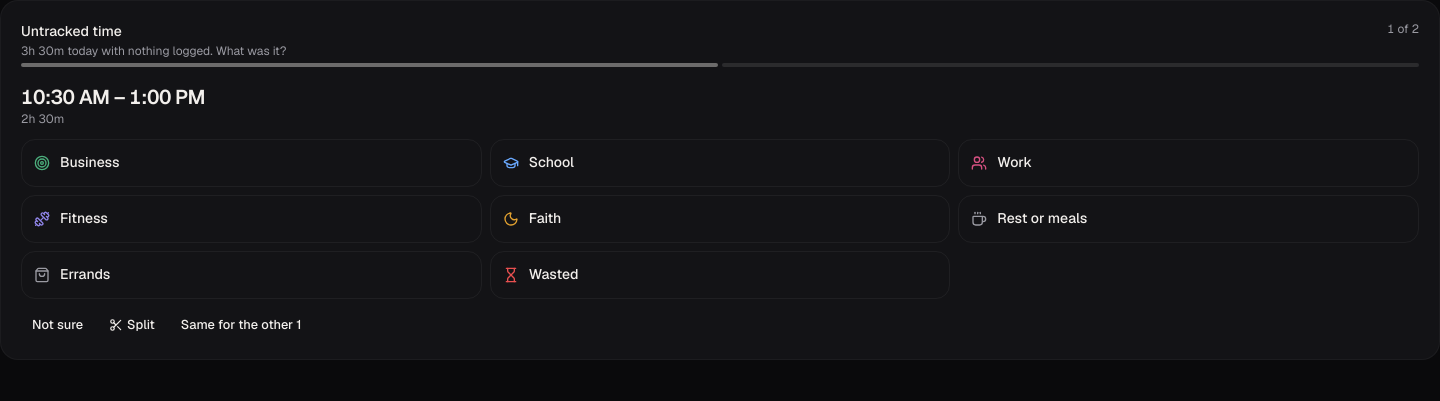
Test: CloseGapsStage › Back returns to the previous stretch, and a failed save keeps the answers with the error shown
Click the button "Business". click: (90, 162)
box: [21, 139, 482, 187]
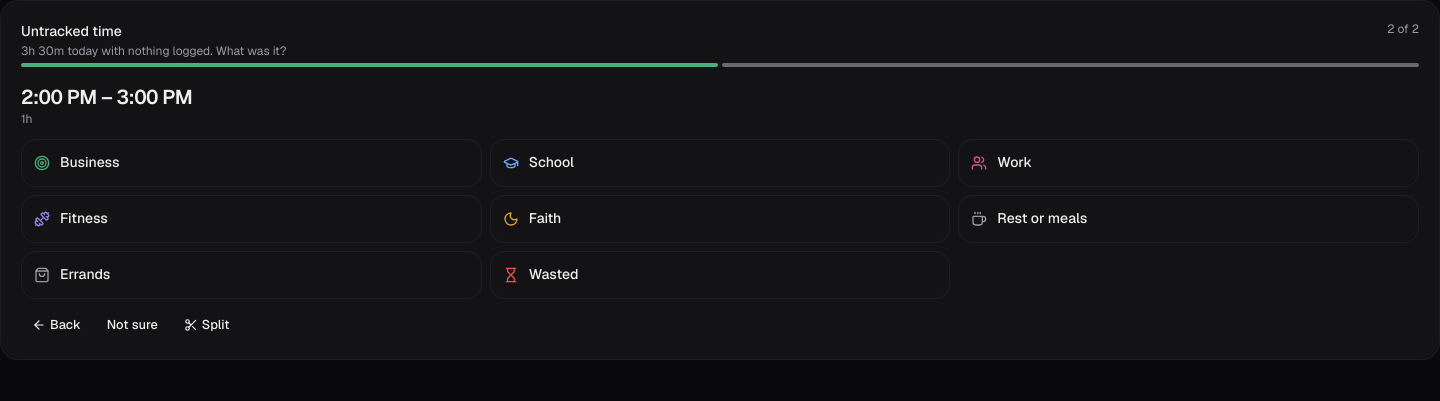
Click the button with test id "close-gaps-back". click: (56, 325)
box: [21, 311, 92, 339]
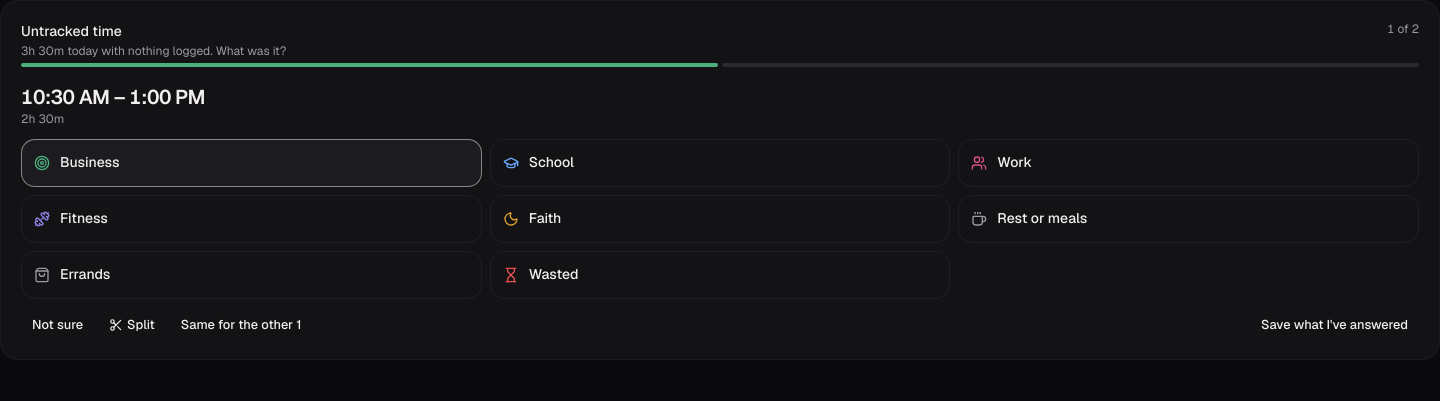
expect the text with test id "close-gaps-range" shows "10:30 AM": met, box [21, 84, 110, 110]
Click the button "Business". click: (90, 162)
box: [21, 139, 482, 187]
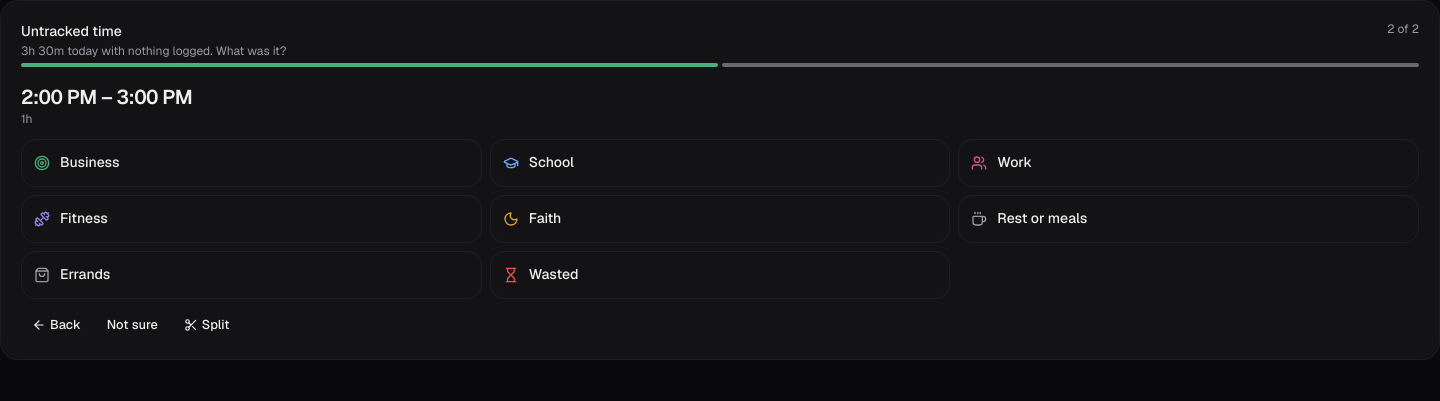
Click the button "Fitness". click: (84, 218)
box: [21, 195, 482, 243]
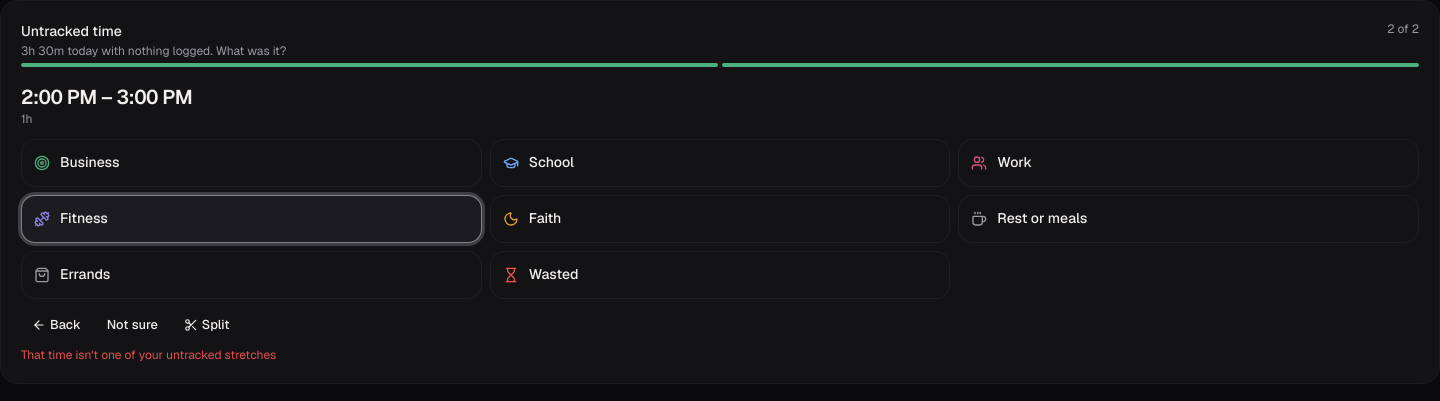
expect the message with test id "close-gaps-error" shows "isn't one of your untracked stretches": met, box [21, 347, 276, 363]
